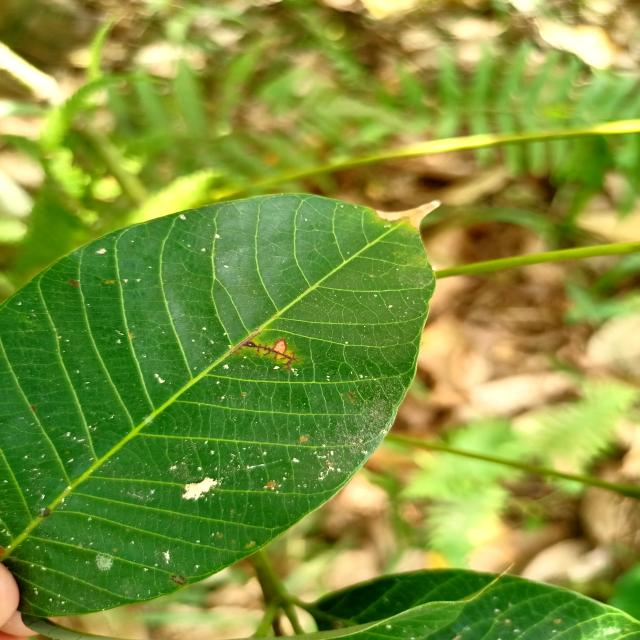Corynespora: (231, 334, 301, 370)
Leaf-Blight: (374, 201, 439, 228)
